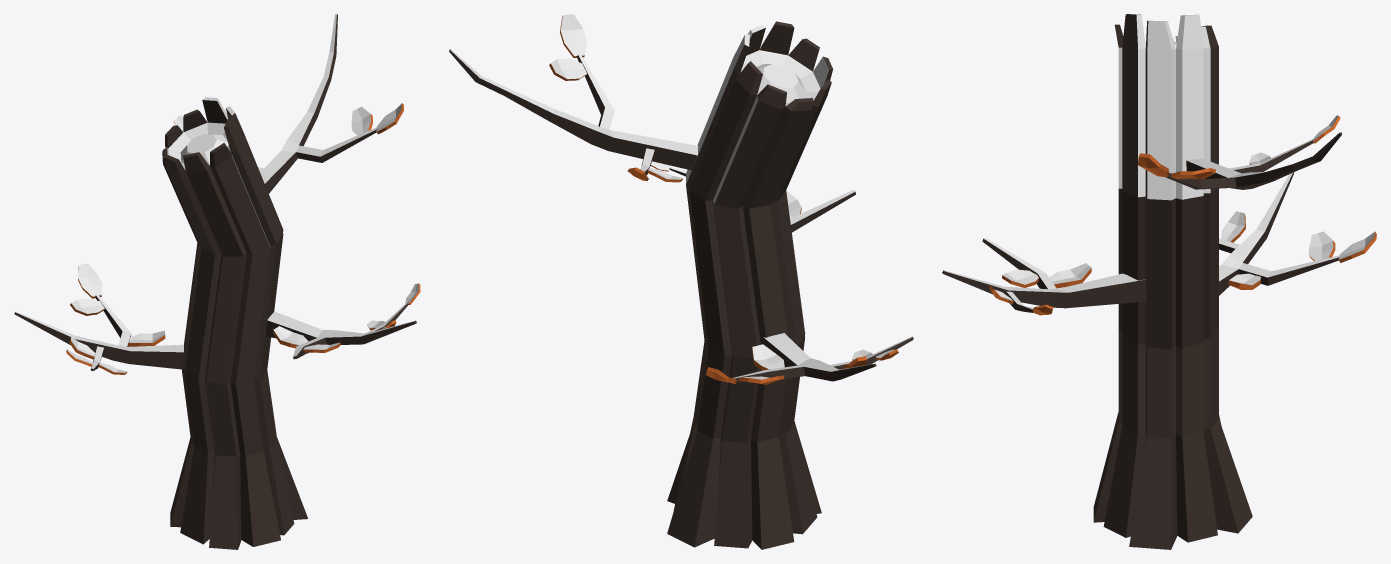
File: Broken_Tree_Winter.fbx
3 renders of one model, left to right at view 1: azimuth 30°, elevation 25°; view 2: azimuth 150°, elevation 25°; view 3: azimuth 270°, elevation 25°, orthographic. The views are drawn at different scales.
Parts seen in each view (by area): view 1: Broken_Tree_Winter; view 2: Broken_Tree_Winter; view 3: Broken_Tree_Winter.
Boxes of the visible parts, left/top/right/bottom form: Broken_Tree_Winter: left=14, top=14, right=420, bottom=549; Broken_Tree_Winter: left=449, top=14, right=913, bottom=549; Broken_Tree_Winter: left=942, top=14, right=1376, bottom=549.
Size of the model in its own units: 292 by 341 by 273.
